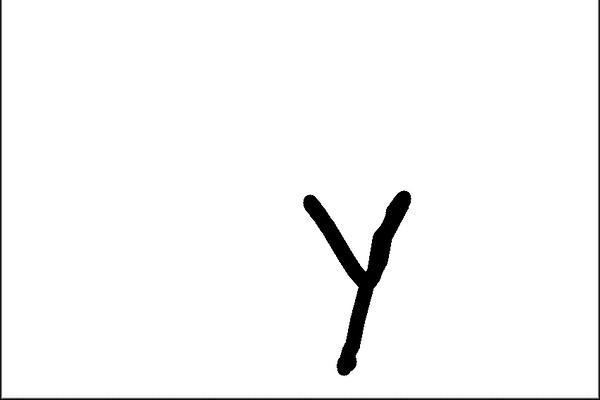Y: (285, 183, 430, 381)
